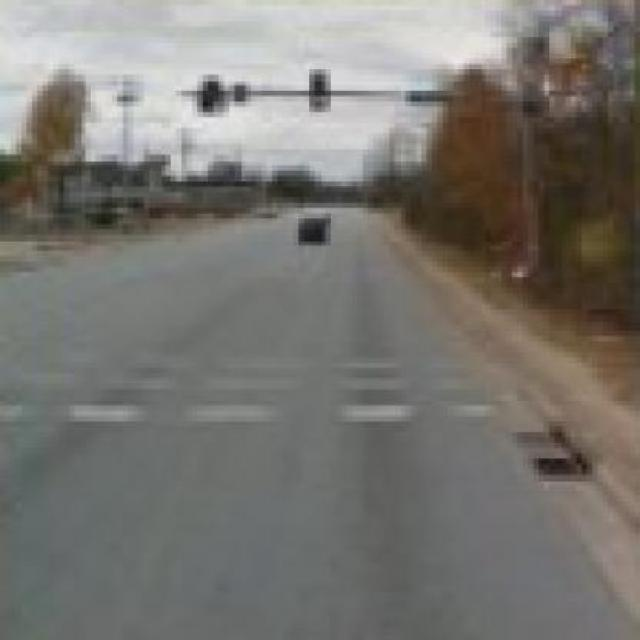crosswalk: (1, 354, 535, 424)
